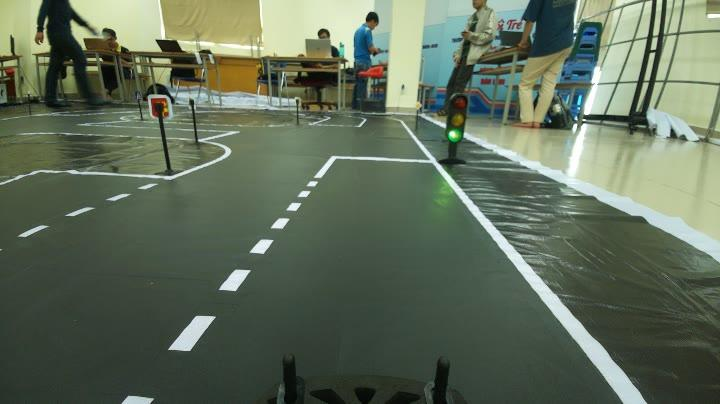trafficlight: (432, 88, 478, 172)
